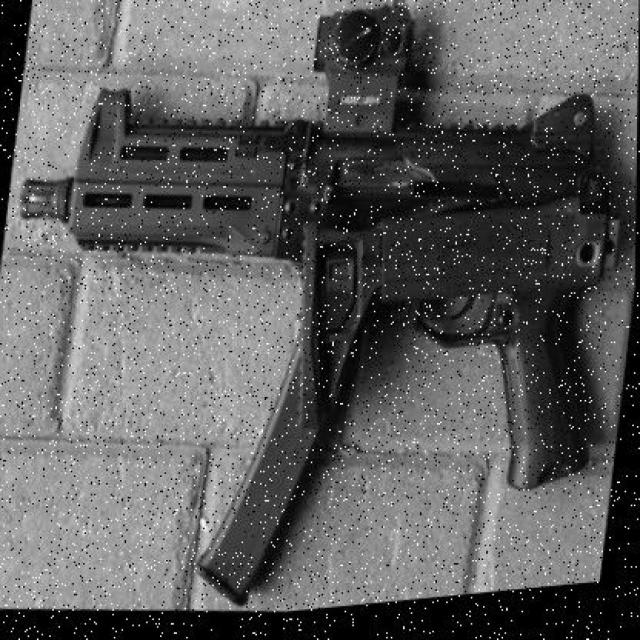weapon: (20, 7, 622, 608)
